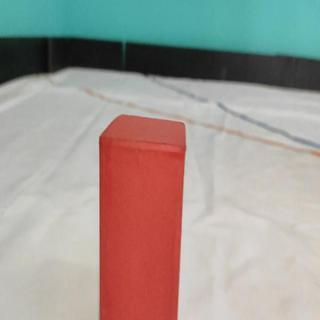redbox: (99, 113, 185, 320)
